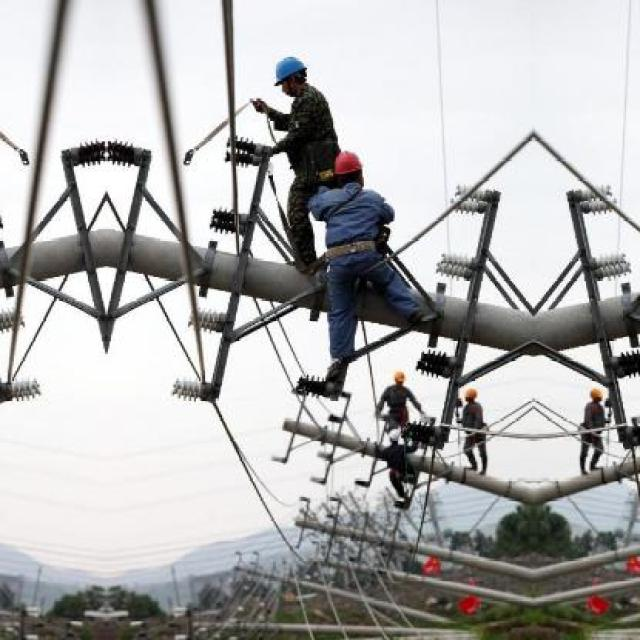helmet: (267, 48, 308, 100), (329, 150, 363, 195), (460, 383, 479, 408), (586, 383, 605, 408), (388, 370, 406, 390)
